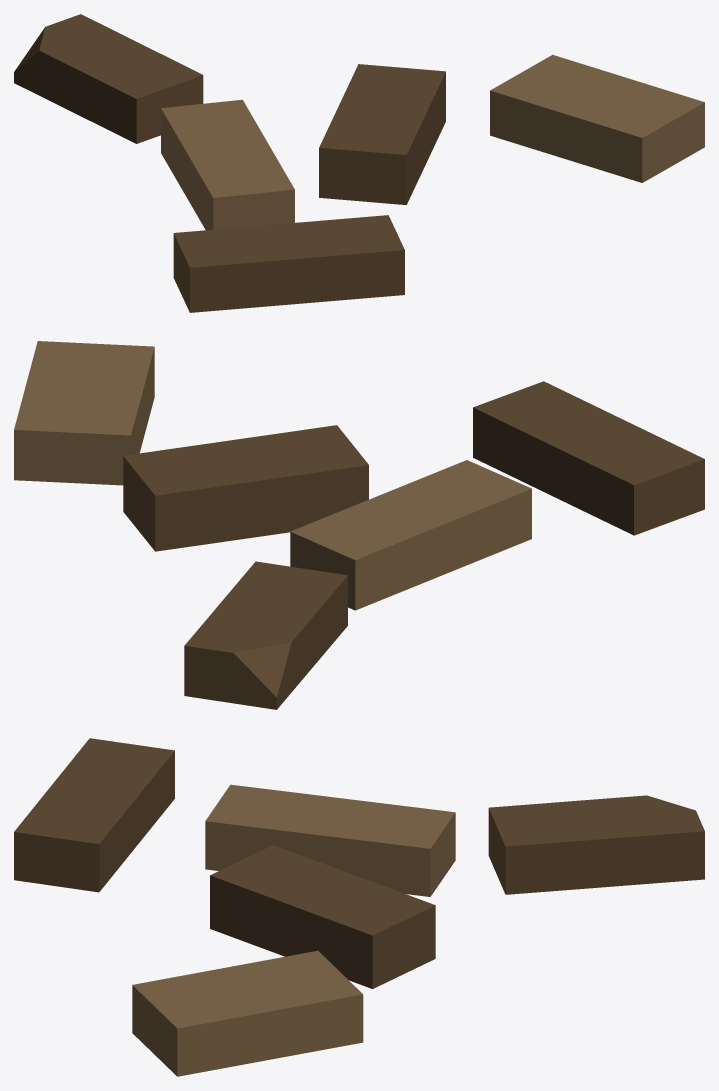
File: BricksStack_2.fbx
The picture shows the model from 3 angles, top to bottom: view 1: azimuth 30°, elevation 25°; view 2: azimuth 150°, elevation 25°; view 3: azimuth 270°, elevation 25°; orthographic projection. The views are drawn at different scales.
Parts seen in each view (by area): view 1: BricksStack_2; view 2: BricksStack_2; view 3: BricksStack_2.
Part boxes in pixels (x1=…): BricksStack_2: x1=14, y1=14, x2=704, y2=312; BricksStack_2: x1=14, y1=341, x2=704, y2=709; BricksStack_2: x1=14, y1=738, x2=704, y2=1076.
Size of the model in its own units: 129 by 11.09 by 130.
